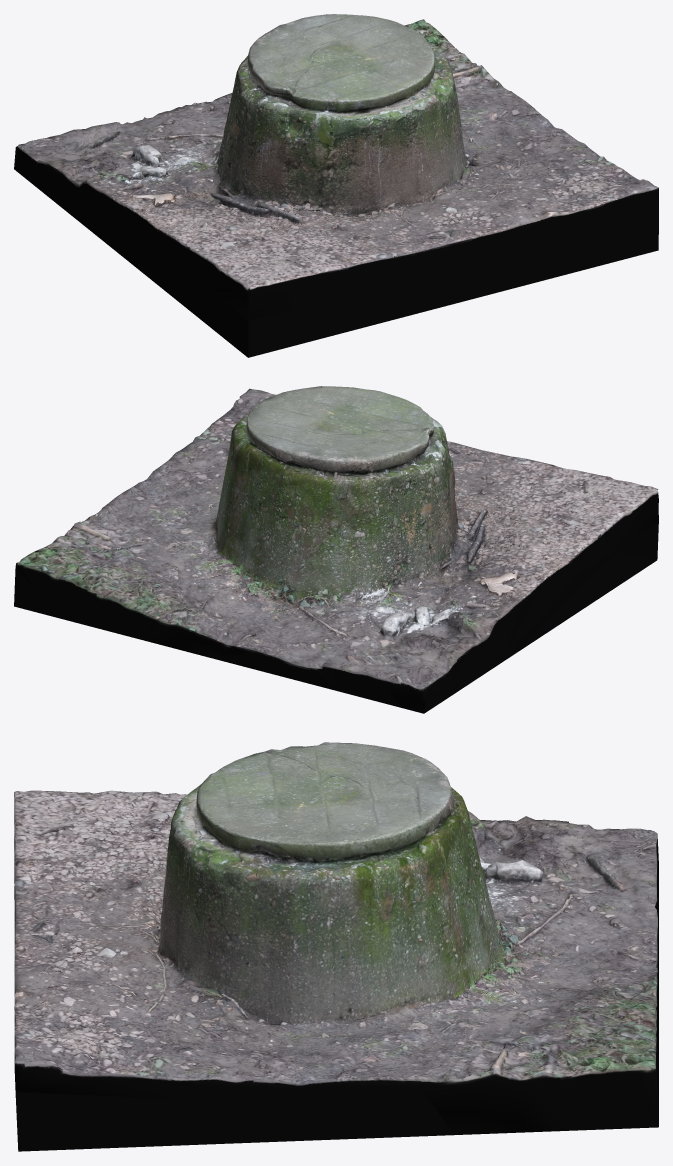
Rendered from concrete.fbx.
3 views of the same model, one above another, from view 1: azimuth 30°, elevation 25°; view 2: azimuth 150°, elevation 25°; view 3: azimuth 270°, elevation 25° (orthographic). The views are drawn at different scales.
Parts seen in each view (by area): view 1: Object_2; view 2: Object_2; view 3: Object_2.
Part boxes in pixels (x1=…): Object_2: x1=14, y1=14, x2=658, y2=357; Object_2: x1=14, y1=386, x2=658, y2=713; Object_2: x1=14, y1=742, x2=658, y2=1151.
Size of the model in its own units: 4831 by 1945 by 4787.
1 material, 1 textured.
